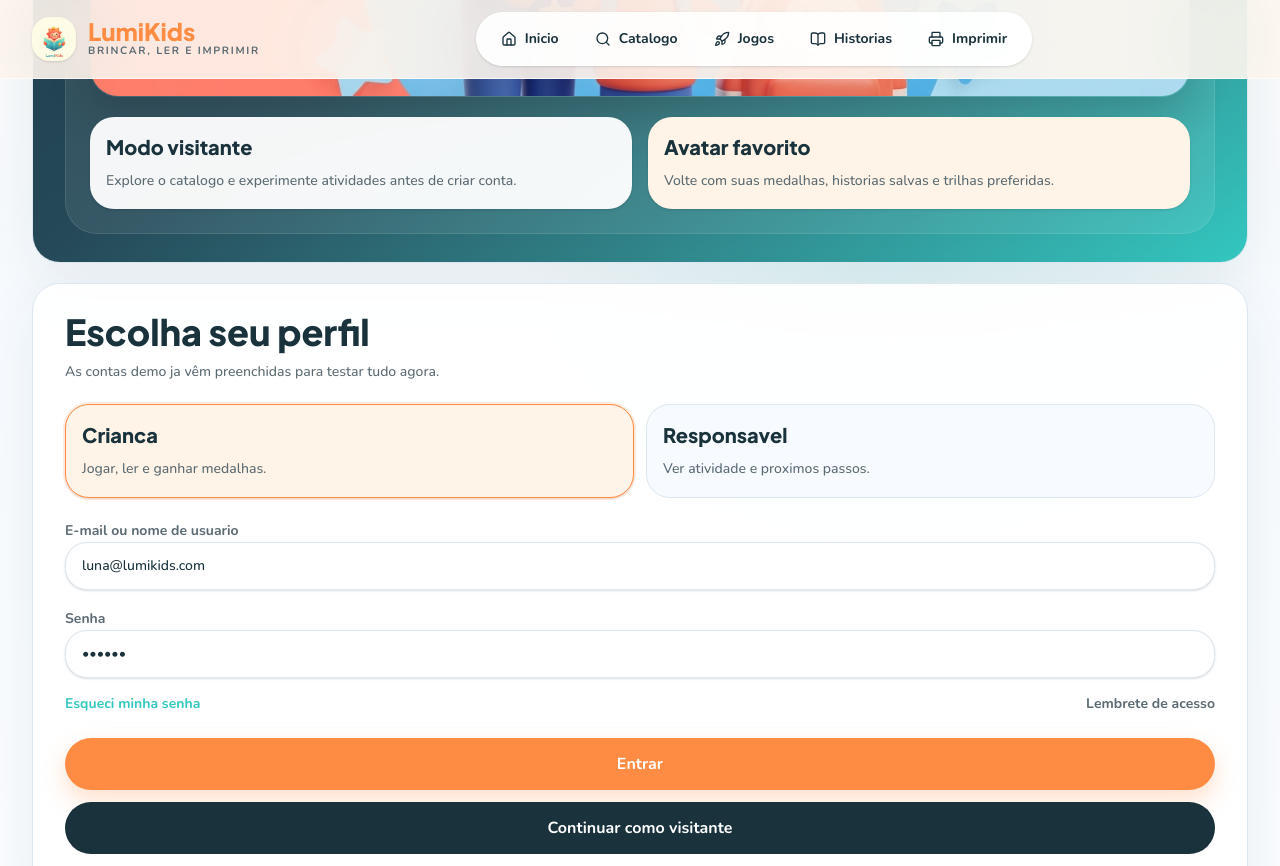
Test: App integration › shows a guardian dashboard with child activity
(page scrolled)
What coordinates should you click on to do the following:
click the button "Responsavel Ver atividade e proximos passos."
I would click on:
 (725, 434)
Its box is 646,404 -> 1215,498.
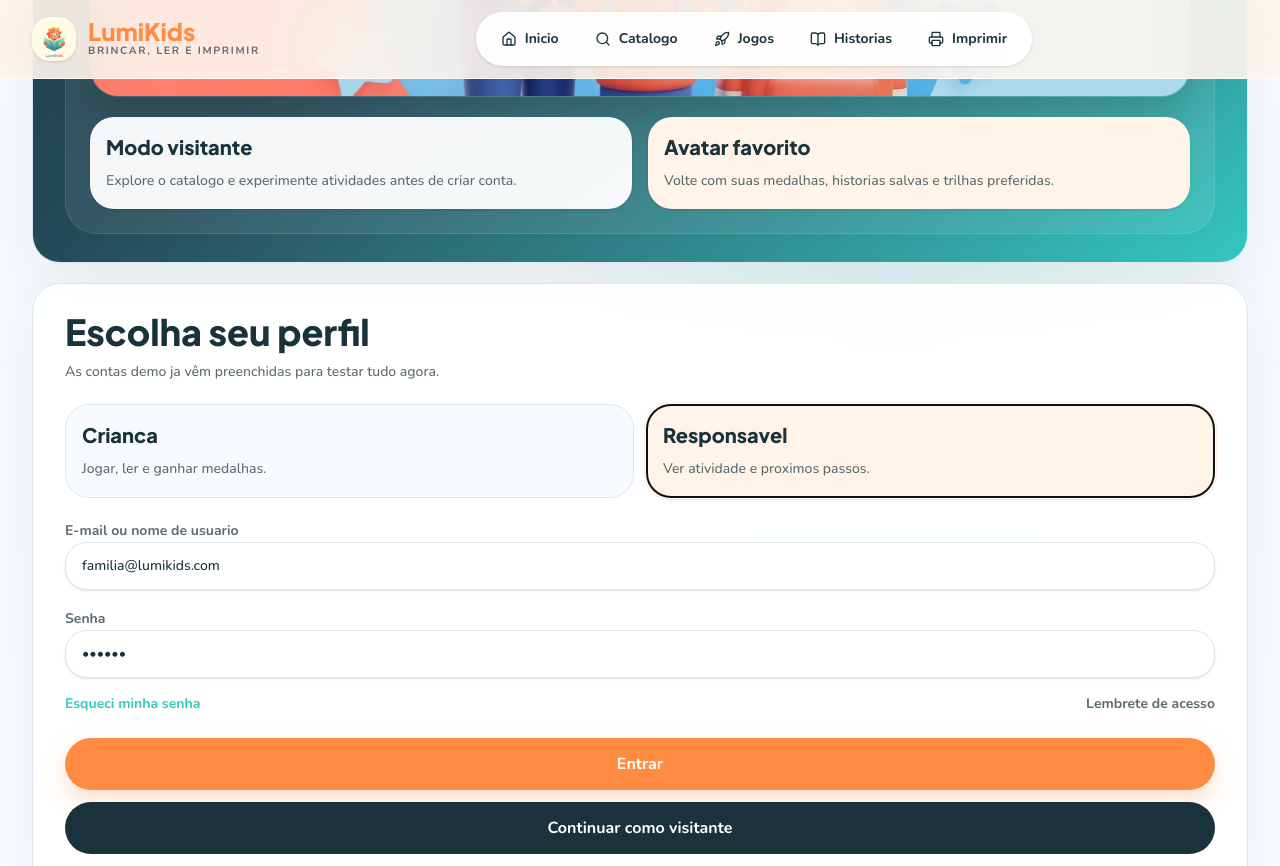
What coordinates should you click on to do the following:
click the button "Entrar"
I would click on:
 (640, 764)
Its box is 65,738 -> 1215,790.
(page scrolled)
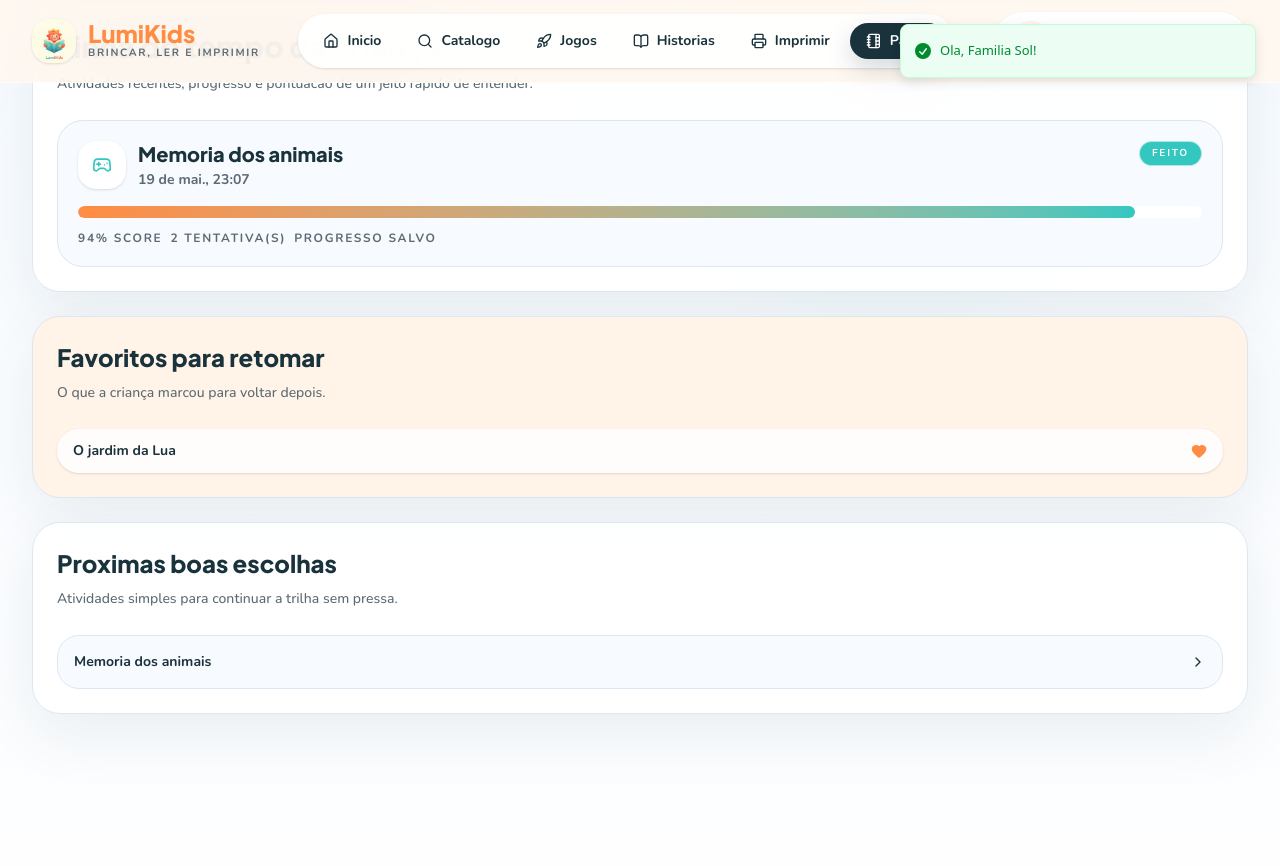
Expected: the text "O jardim da Lua" is shown, 73,440 -> 176,460
